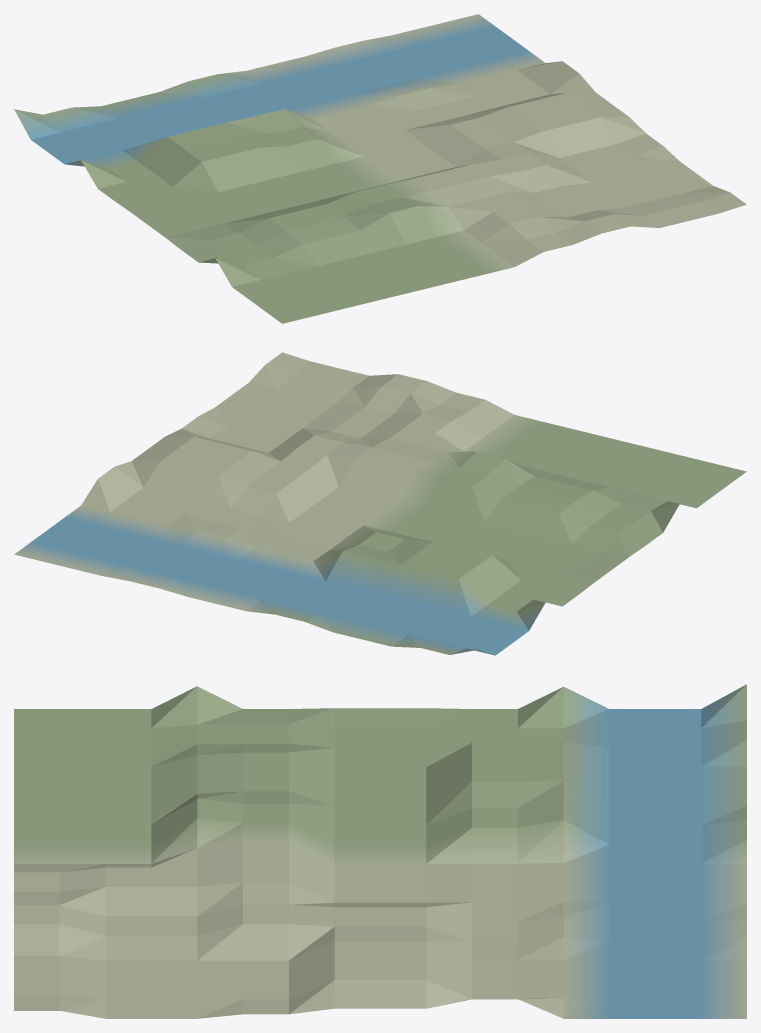
3 renders of one model, top to bottom at view 1: azimuth 30°, elevation 25°; view 2: azimuth 150°, elevation 25°; view 3: azimuth 270°, elevation 25°, orthographic. The views are drawn at different scales.
Size of the model in its own units: 32 by 1.26 by 32.
